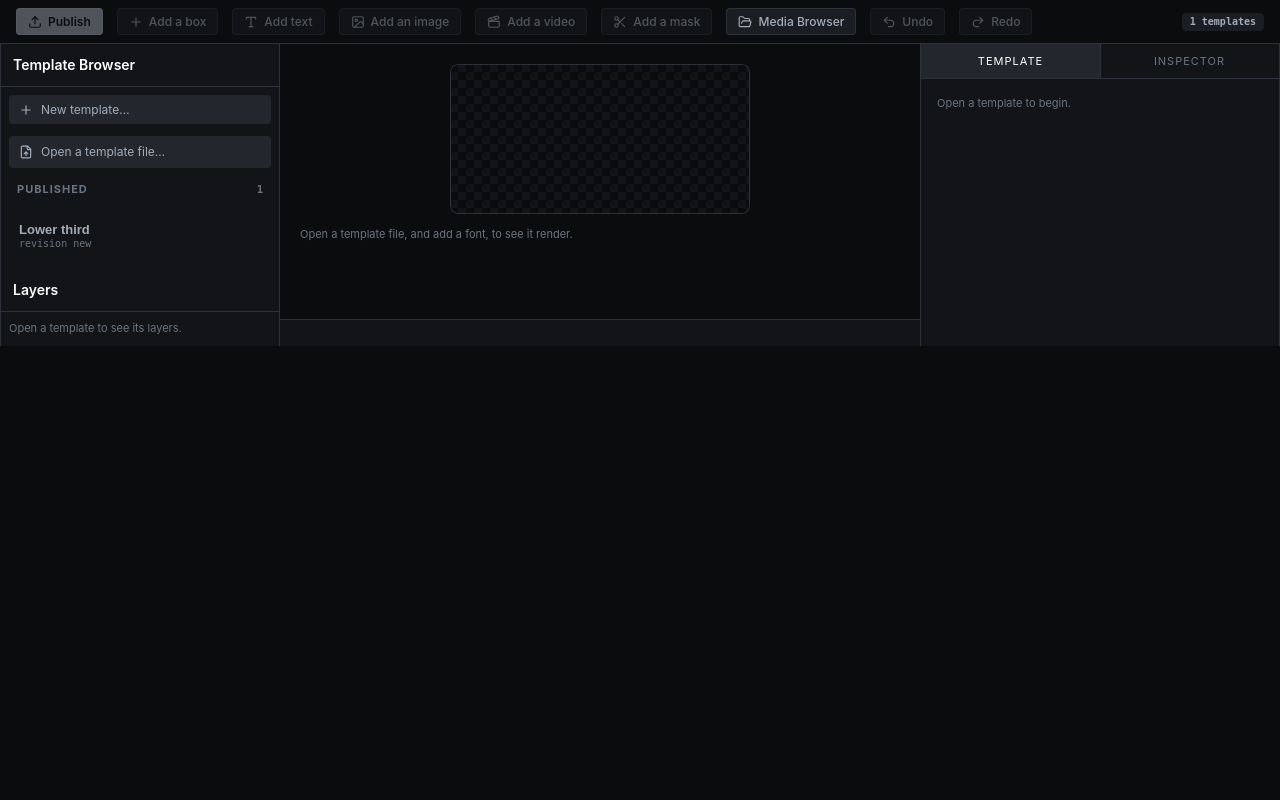
Test: optional styles › a text node has no Fill checkbox — its fill is the ink itself
Click the text "Lower third": x=54, y=230 [19,222,90,237]
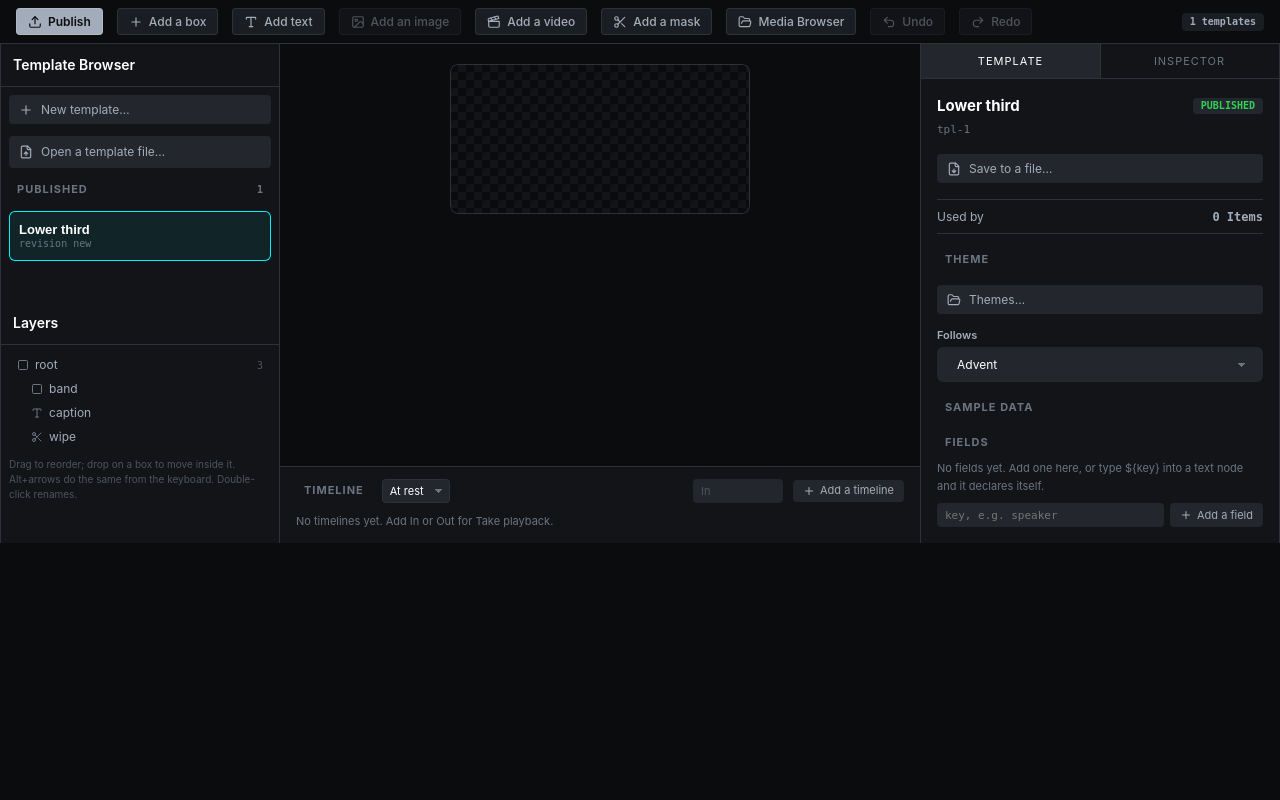
Press the mouse on the list item "caption": x=61, y=413 [31,405,91,420]
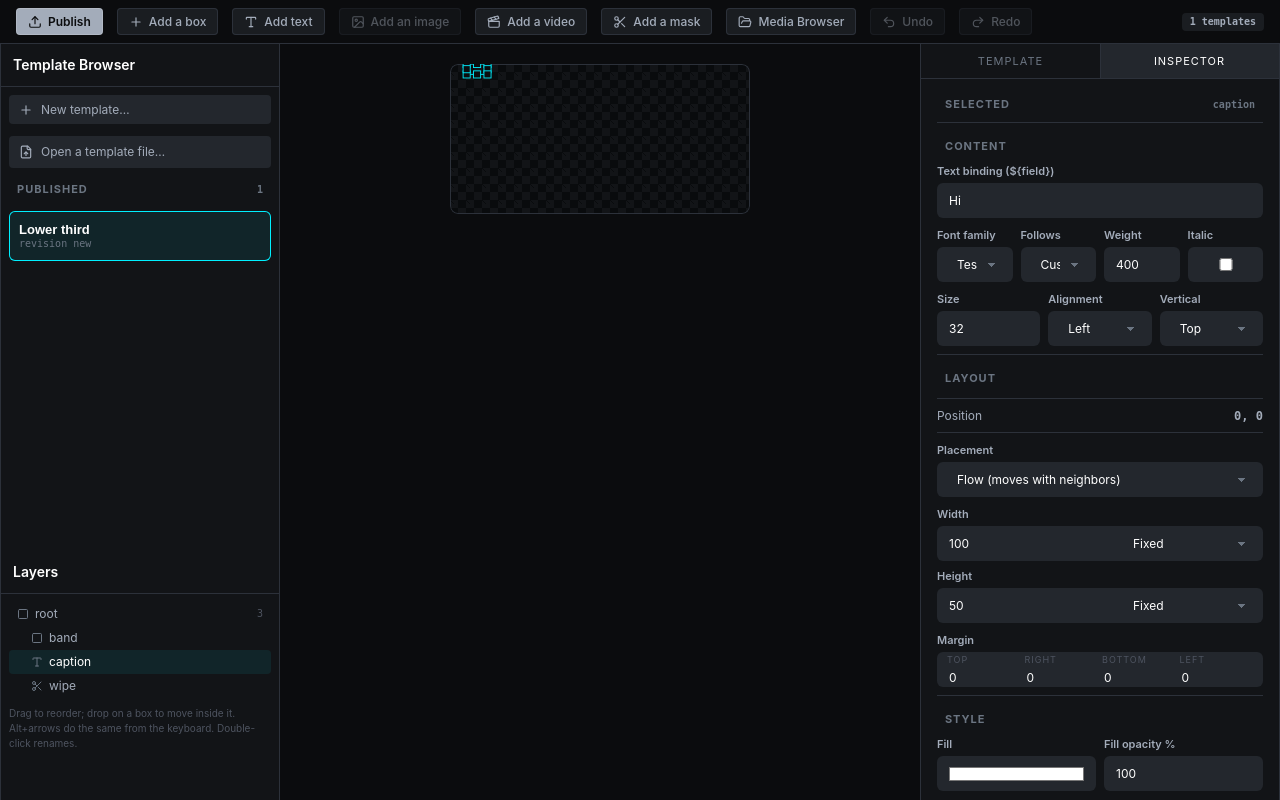
Now the colour field named "Fill colour" is shown, box [947,762,1086,784]
